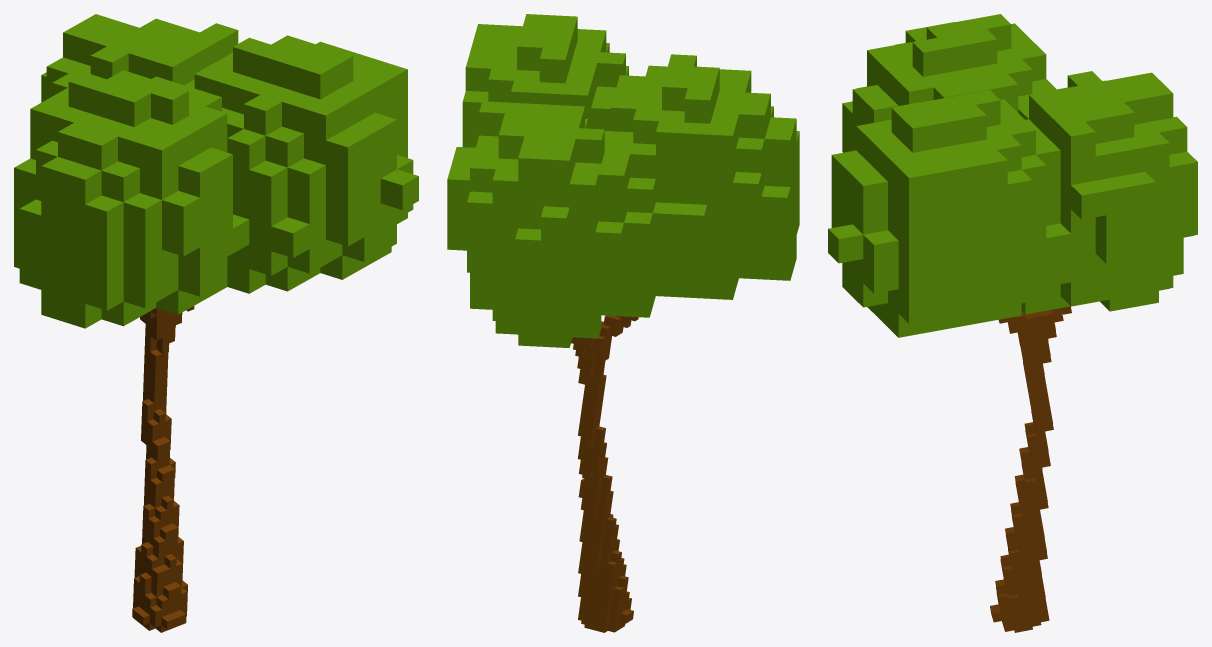
File: Voxeltree_03_green.glb
3 renders of one model, left to right at view 1: azimuth 30°, elevation 25°; view 2: azimuth 150°, elevation 25°; view 3: azimuth 270°, elevation 25°, orthographic. The views are drawn at different scales.
Visible parts, largest first — view 1: Voxeltree_03_green_Wood_0; view 2: Voxeltree_03_green_Wood_0; view 3: Voxeltree_03_green_Wood_0.
Boxes of the visible parts, bbox=[...] form: Voxeltree_03_green_Wood_0: bbox=[14, 14, 418, 632]; Voxeltree_03_green_Wood_0: bbox=[447, 14, 799, 632]; Voxeltree_03_green_Wood_0: bbox=[828, 14, 1197, 632].
Size of the model in its own units: 6.49 by 9.95 by 5.93.
